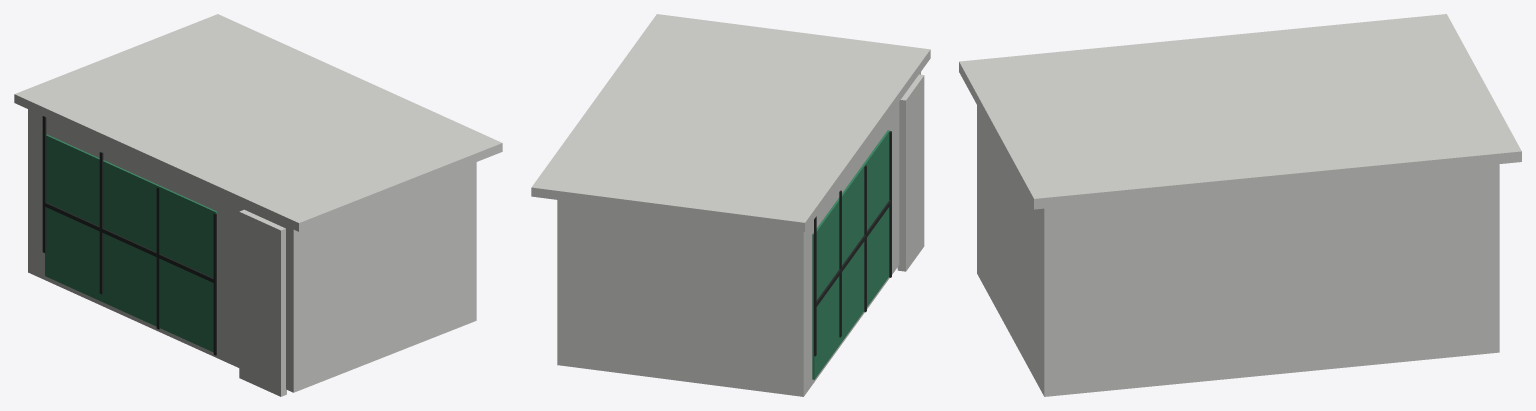
Rendered from malmok_glassvilla.glb.
3 views of the same model, side by side, from view 1: azimuth 30°, elevation 25°; view 2: azimuth 150°, elevation 25°; view 3: azimuth 270°, elevation 25° (orthographic). The views are drawn at different scales.
Visible parts, largest first — view 1: malmok_glassvilla_lod0; view 2: malmok_glassvilla_lod0; view 3: malmok_glassvilla_lod0.
Boxes of the visible parts, <box> form: malmok_glassvilla_lod0: <box>14,14,502,396</box>; malmok_glassvilla_lod0: <box>531,14,930,396</box>; malmok_glassvilla_lod0: <box>959,14,1521,396</box>.
Size of what is drawn, in the model's own units: 13.12 by 7.18 by 16.86.
